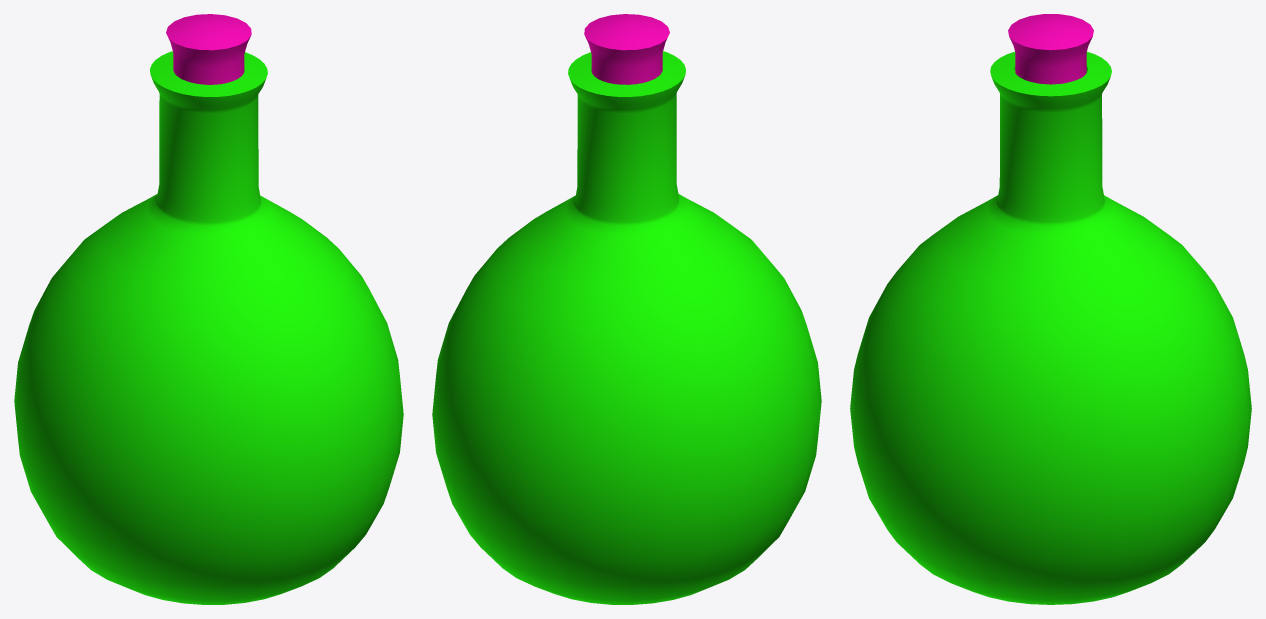
Rendered from Fiole.fbx.
The picture shows the model from 3 angles, left to right: view 1: azimuth 30°, elevation 25°; view 2: azimuth 150°, elevation 25°; view 3: azimuth 270°, elevation 25°; orthographic projection.
Visible parts, largest first — view 1: Fiole; view 2: Fiole; view 3: Fiole.
Boxes of the visible parts, x1=… form: Fiole: x1=14, y1=14, x2=403, y2=604; Fiole: x1=432, y1=14, x2=821, y2=604; Fiole: x1=850, y1=14, x2=1251, y2=604.
Bounding box in the file's own units: 0.2594 × 0.2693 × 0.4059.
